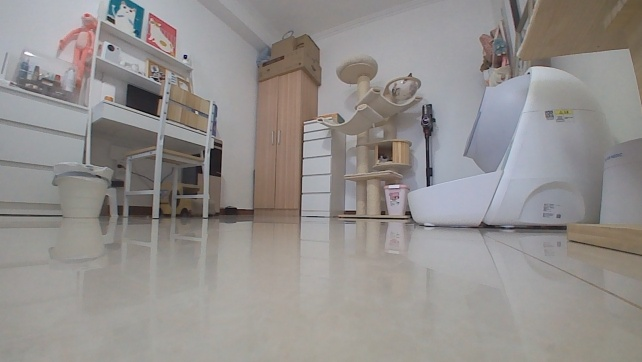wire: (131, 165, 175, 185)
